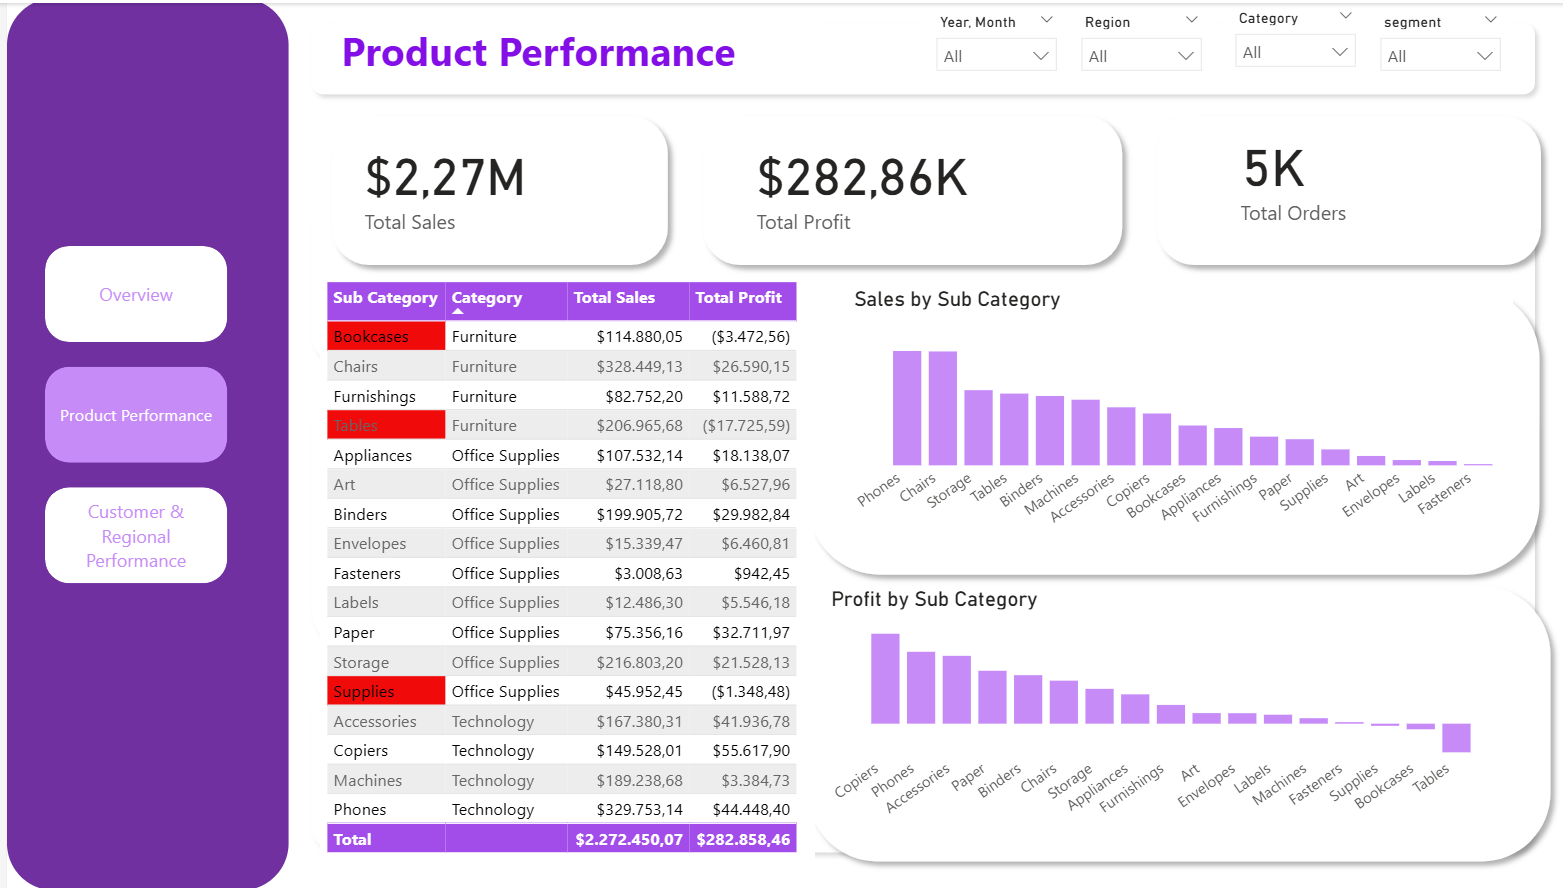

The page's visual inventory and layout, read from the dashboard file:
{"tool":"powerbi","page":{"name":"Product Performance","canvas":[1280,720],"ordinal":1},"visuals":[{"type":"textbox","box":[266.6,11,397.4,55.9],"z":0},{"type":"shape","box":[255.1,82.7,290.7,139],"z":0,"group":"g1"},{"type":"slicer","title":"Sales Over Time","fields":{"Values":["superstore_db orders.order_date.Variation.Date Hierarchy.Year","superstore_db orders.order_date.Variation.Date Hierarchy.Month"]},"box":[744.8,3,117.8,63.9],"z":1000},{"type":"shape","box":[556.1,82.7,358.5,139],"z":1000,"group":"g1"},{"type":"slicer","title":"Sales Over Time","fields":{"Values":["superstore_db products.category"]},"box":[987.5,0,117.8,71.9],"z":2000},{"type":"shape","box":[925,82.7,329.8,139],"z":2000,"group":"g1"},{"type":"shape","box":[642,221.7,612,251.6],"z":3000},{"type":"shape","box":[642,464.3,621,241.6],"z":4000},{"type":"slicer","title":"Sales Over Time","fields":{"Values":["superstore_db orders.region"]},"box":[862.7,3,117.8,63.9],"z":5000},{"type":"slicer","title":"Sales Over Time","fields":{"Values":["superstore_db customers.segment"]},"box":[1105.3,3,117.8,63.9],"z":6000},{"type":"pageNavigator","box":[31,197.7,148.8,275.6],"z":7000},{"type":"columnChart","title":"Sales by Sub Category","fields":{"Y":["superstore_db order_items.Total Sales"],"Category":["superstore_db products.sub_category"]},"box":[682.9,229.6,540.2,210.7],"z":8000},{"type":"columnChart","title":"Profit by Sub Category","fields":{"Y":["superstore_db order_items.Total Profit"],"Category":["superstore_db products.sub_category"]},"box":[664.1,473.4,541.2,201.1],"z":9000},{"type":"cardVisual","fields":{"Data":["superstore_db order_items.Total Profit"]},"box":[977.8,106.9,225.2,90.8],"z":10000},{"type":"tableEx","fields":{"Values":["superstore_db products.sub_category","superstore_db products.category","superstore_db order_items.Total Sales","superstore_db order_items.Total Profit"]},"box":[254.6,221.7,402.4,484.2],"z":11000},{"type":"group","id":"g1","title":"Group 1","box":[255.1,82.7,999.6,139],"z":12000},{"type":"cardVisual","fields":{"Data":["superstore_db order_items.Total Sales"]},"box":[266.6,106.9,225.2,90.8],"z":13000},{"type":"cardVisual","fields":{"Data":["superstore_db order_items.Total Profit"]},"box":[584.8,106.9,225.2,90.8],"z":14000},{"type":"cardVisual","fields":{"Data":["superstore_db order_items.Total Orders"]},"box":[977.5,99.8,224.6,89.9],"z":15000}]}

Visuals, with their boxes in screenshot pixels (x1, y1, x2, y2), scaled from the page's 1280x720 canvas onto the 1563x888 screenshot:
textbox: <bbox>326, 14, 811, 83</bbox>
shape: <bbox>312, 102, 666, 273</bbox>
"Sales Over Time" slicer: <bbox>909, 4, 1053, 83</bbox>
shape: <bbox>679, 102, 1117, 273</bbox>
"Sales Over Time" slicer: <bbox>1206, 0, 1350, 89</bbox>
shape: <bbox>1130, 102, 1532, 273</bbox>
shape: <bbox>784, 273, 1531, 584</bbox>
shape: <bbox>784, 573, 1542, 871</bbox>
"Sales Over Time" slicer: <bbox>1053, 4, 1197, 83</bbox>
"Sales Over Time" slicer: <bbox>1350, 4, 1494, 83</bbox>
pageNavigator: <bbox>38, 244, 220, 584</bbox>
"Sales by Sub Category" columnChart: <bbox>834, 283, 1494, 543</bbox>
"Profit by Sub Category" columnChart: <bbox>811, 584, 1472, 832</bbox>
cardVisual - superstore_db order_items.Total Profit: <bbox>1194, 132, 1469, 244</bbox>
tableEx - superstore_db products.sub_category x superstore_db products.category: <bbox>311, 273, 802, 871</bbox>
"Group 1" group: <bbox>312, 102, 1532, 273</bbox>
cardVisual - superstore_db order_items.Total Sales: <bbox>326, 132, 601, 244</bbox>
cardVisual - superstore_db order_items.Total Profit: <bbox>714, 132, 989, 244</bbox>
cardVisual - superstore_db order_items.Total Orders: <bbox>1194, 123, 1468, 234</bbox>
